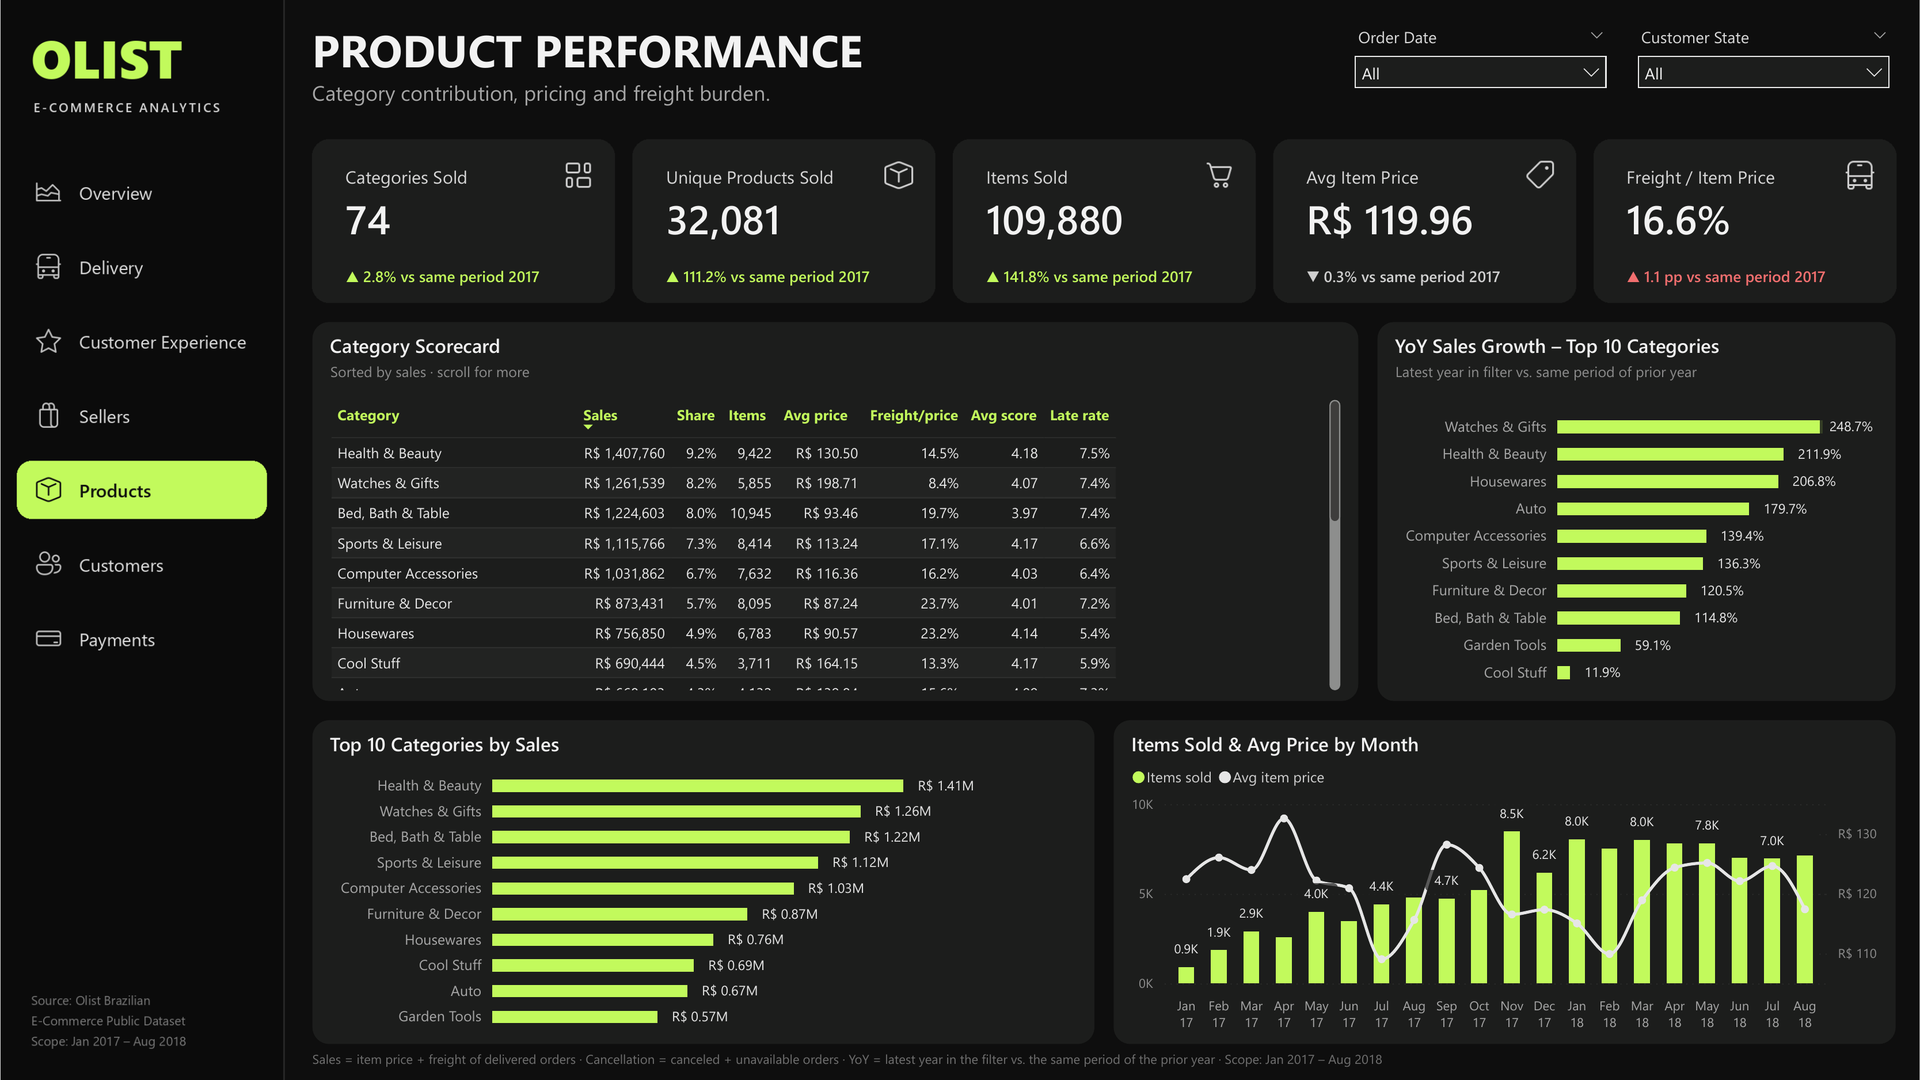

The page's visual inventory and layout, read from the dashboard file:
{"tool":"powerbi","page":{"name":"Products","canvas":[1600,900],"ordinal":4},"visuals":[{"type":"textbox","box":[260,16,860,90],"z":0},{"type":"textbox","box":[260,874,1320,22],"z":1000},{"type":"cardVisual","fields":{"Data":["_Measures.Categories Sold"]},"box":[276,128,188,84],"z":2000},{"type":"cardVisual","fields":{"Data":["_Measures.Products Sold"]},"box":[543,128,188,84],"z":3000},{"type":"cardVisual","fields":{"Data":["_Measures.Items Sold"]},"box":[810,128,188,84],"z":4000},{"type":"cardVisual","fields":{"Data":["_Measures.Avg Item Price"]},"box":[1077,128,188,84],"z":5000},{"type":"cardVisual","fields":{"Data":["_Measures.Freight-to-Price Ratio"]},"box":[1344,128,188,84],"z":6000},{"type":"cardVisual","fields":{"Data":["_Measures.Categories Sold Δ text"]},"box":[276,214,228,28],"z":7000},{"type":"cardVisual","fields":{"Data":["_Measures.Products Sold Δ text"]},"box":[543,214,228,28],"z":8000},{"type":"cardVisual","fields":{"Data":["_Measures.Items Sold Δ text"]},"box":[810,214,228,28],"z":9000},{"type":"cardVisual","fields":{"Data":["_Measures.Avg Item Price Δ text"]},"box":[1077,214,228,28],"z":10000},{"type":"cardVisual","fields":{"Data":["_Measures.Freight-to-Price Ratio Δ text"]},"box":[1344,214,228,28],"z":11000},{"type":"clusteredBarChart","title":"Top 10 Categories by Sales","fields":{"Category":["Products.category"],"Y":["_Measures.Item Sales"]},"box":[260,600,652,270],"z":12000},{"type":"clusteredBarChart","title":"YoY Sales Growth – Top 10 Categories","fields":{"Category":["Products.category"],"Y":["_Measures.Item Sales Δ"]},"box":[1148,268,432,316],"z":13000},{"type":"tableEx","title":"Category Scorecard","fields":{"Values":["Products.category","_Measures.Item Sales","_Measures.Sales Share (Category)","_Measures.Items Sold","_Measures.Avg Item Price","_Measures.Freight-to-Price Ratio","_Measures.Avg Review Score","_Measures.Late Delivery Rate"]},"box":[260,268,872,316],"z":14000},{"type":"lineStackedColumnComboChart","title":"Items Sold & Avg Price by Month","fields":{"Category":["Date.YearMonth"],"Y":["_Measures.Items Sold"],"Y2":["_Measures.Avg Item Price"]},"box":[928,600,652,270],"z":15000},{"type":"actionButton","box":[14,136,208,48],"z":16000},{"type":"actionButton","box":[14,198,208,48],"z":17000},{"type":"actionButton","box":[14,260,208,48],"z":18000},{"type":"actionButton","box":[14,322,208,48],"z":19000},{"type":"actionButton","box":[14,384,208,48],"z":20000},{"type":"actionButton","box":[14,446,208,48],"z":21000},{"type":"actionButton","box":[14,508,208,48],"z":22000},{"type":"slicer","fields":{"Values":["Date.Year","Date.Month"]},"box":[1124,22,220,70],"z":23000},{"type":"slicer","fields":{"Values":["States.state_name"]},"box":[1360,22,220,70],"z":24000}]}

Visuals, with their boxes on the page's 1600x900 design canvas (x1, y1, x2, y2). These are canvas units, not pixel positions in the 1920x1080 screenshot, which may show the page scaled, cropped or inside an application window:
textbox: detection(260, 16, 1120, 106)
textbox: detection(260, 874, 1580, 896)
cardVisual - _Measures.Categories Sold: detection(276, 128, 464, 212)
cardVisual - _Measures.Products Sold: detection(543, 128, 731, 212)
cardVisual - _Measures.Items Sold: detection(810, 128, 998, 212)
cardVisual - _Measures.Avg Item Price: detection(1077, 128, 1265, 212)
cardVisual - _Measures.Freight-to-Price Ratio: detection(1344, 128, 1532, 212)
cardVisual - _Measures.Categories Sold Δ text: detection(276, 214, 504, 242)
cardVisual - _Measures.Products Sold Δ text: detection(543, 214, 771, 242)
cardVisual - _Measures.Items Sold Δ text: detection(810, 214, 1038, 242)
cardVisual - _Measures.Avg Item Price Δ text: detection(1077, 214, 1305, 242)
cardVisual - _Measures.Freight-to-Price Ratio Δ text: detection(1344, 214, 1572, 242)
"Top 10 Categories by Sales" clusteredBarChart: detection(260, 600, 912, 870)
"YoY Sales Growth – Top 10 Categories" clusteredBarChart: detection(1148, 268, 1580, 584)
"Category Scorecard" tableEx: detection(260, 268, 1132, 584)
"Items Sold & Avg Price by Month" lineStackedColumnComboChart: detection(928, 600, 1580, 870)
actionButton: detection(14, 136, 222, 184)
actionButton: detection(14, 198, 222, 246)
actionButton: detection(14, 260, 222, 308)
actionButton: detection(14, 322, 222, 370)
actionButton: detection(14, 384, 222, 432)
actionButton: detection(14, 446, 222, 494)
actionButton: detection(14, 508, 222, 556)
slicer - Date.Year x Date.Month: detection(1124, 22, 1344, 92)
slicer - States.state_name: detection(1360, 22, 1580, 92)
